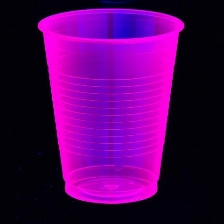glass: (33, 6, 186, 209)
